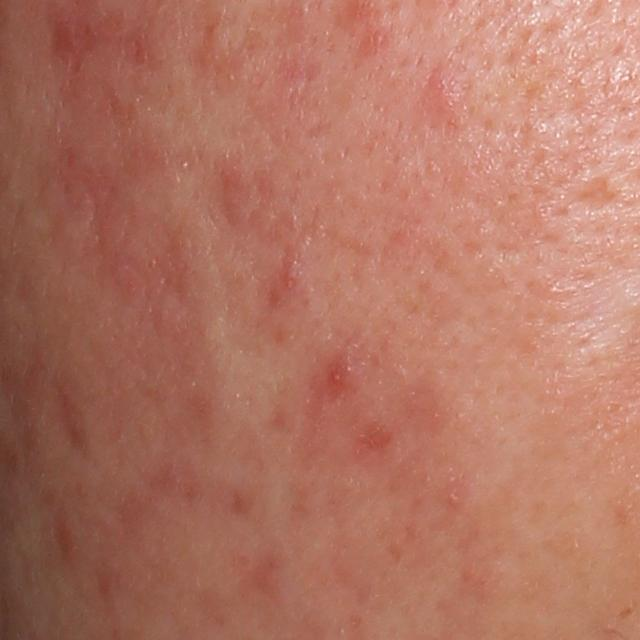atrophic_scar: (207, 235, 271, 373), (572, 180, 626, 211)
papule: (319, 347, 365, 402), (414, 71, 463, 117), (275, 264, 302, 299)
